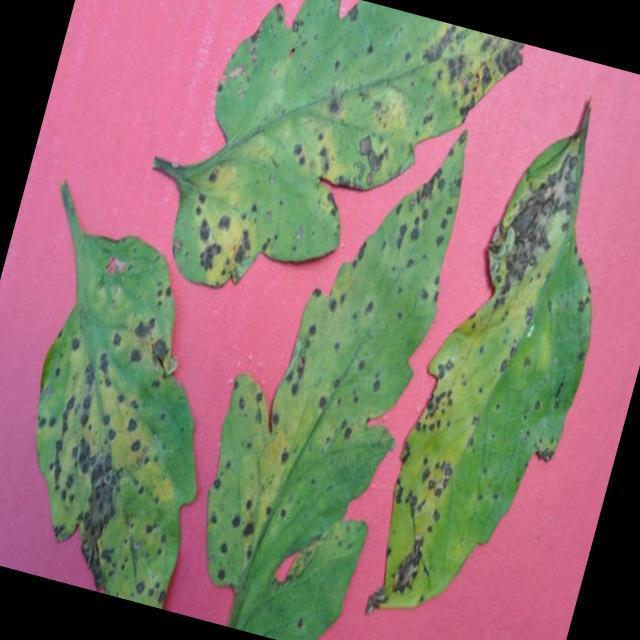Bacterial Spot: (180, 116, 476, 636), (363, 97, 640, 640), (170, 0, 524, 351), (0, 282, 236, 608)
